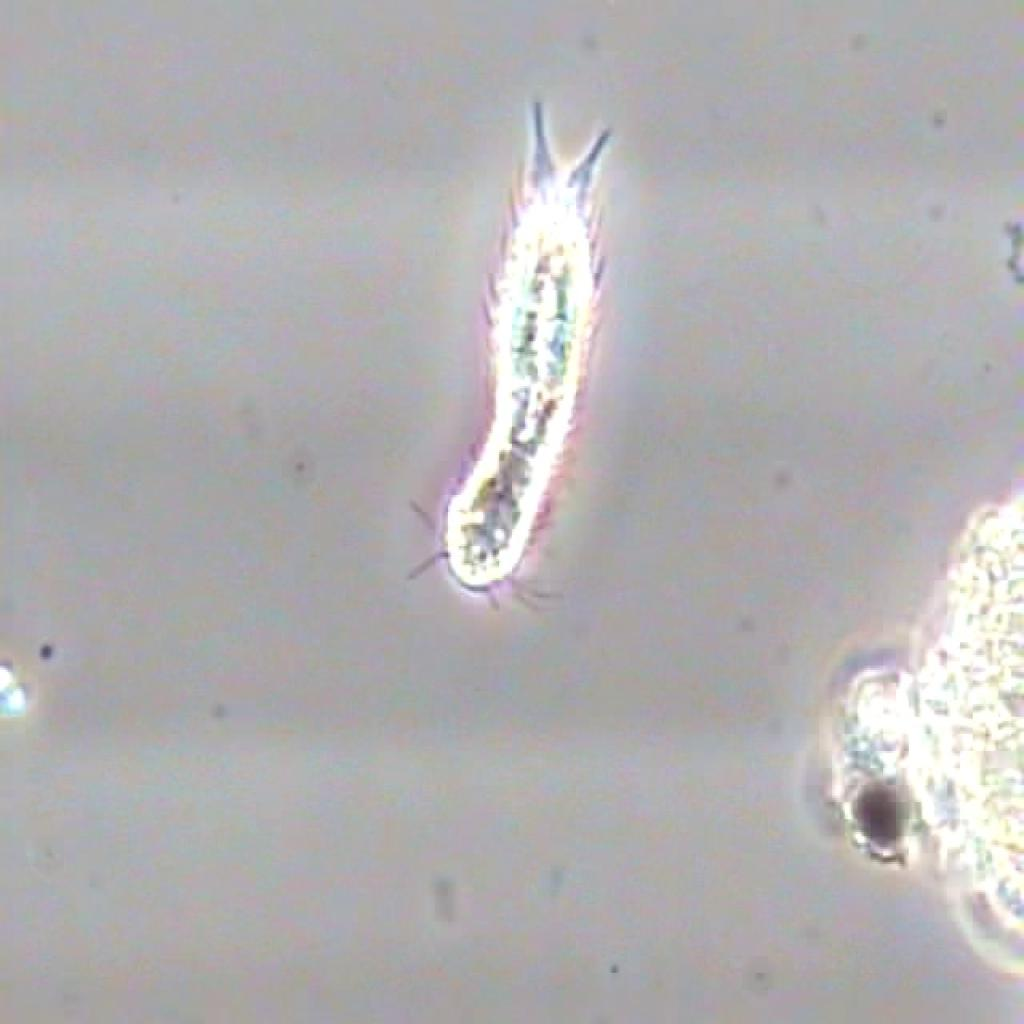Chaetonotus: (389, 95, 654, 622)
